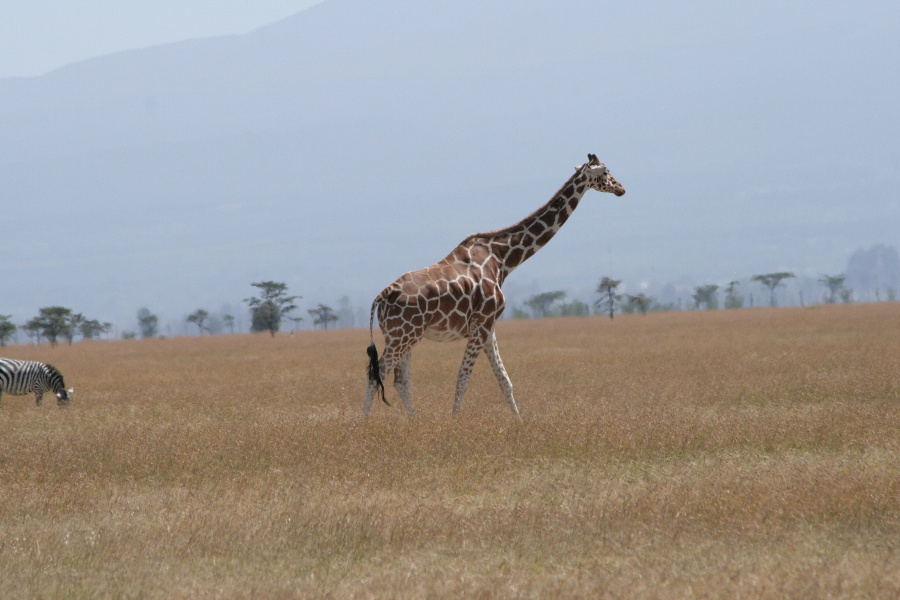giraffe: (348, 149, 631, 429)
